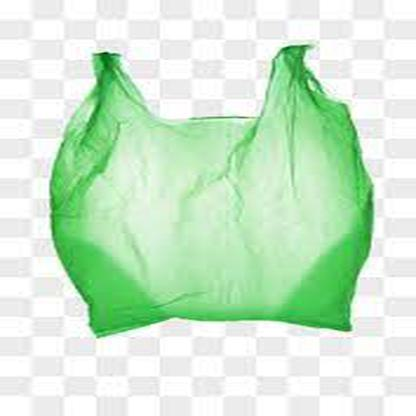plastic bag: (49, 39, 374, 336)
